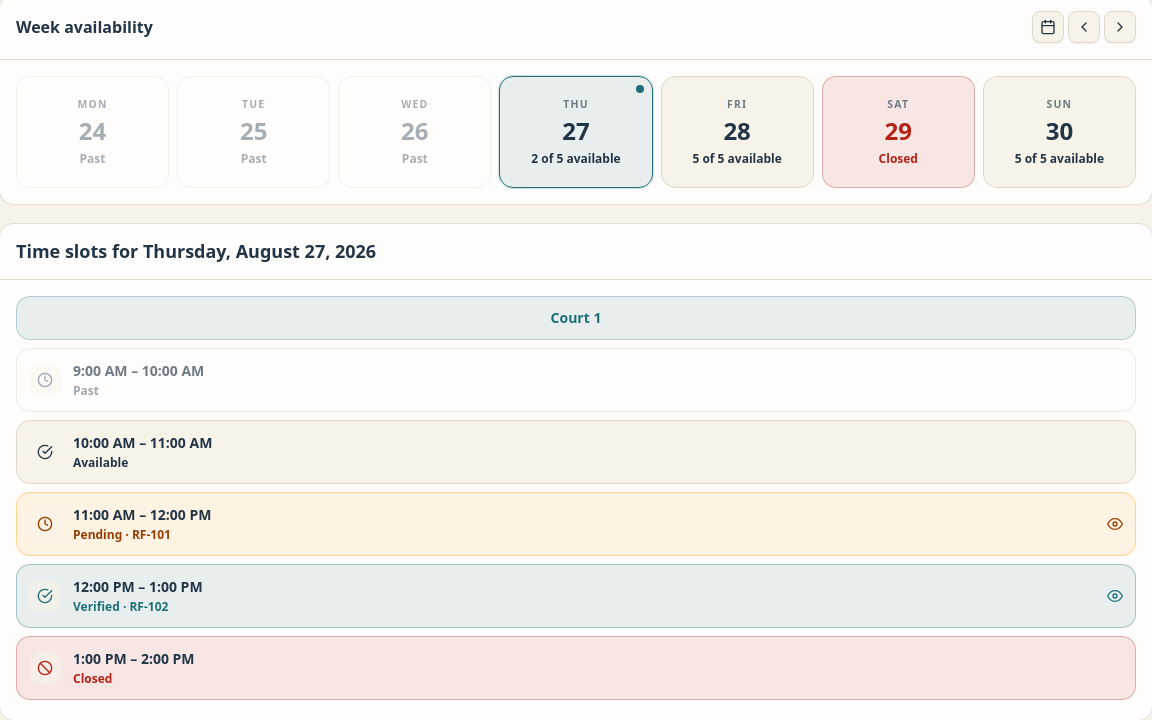
Test case: PortalHomeView › opens the dashboard detail with pending actions for a Manager
This screenshot has width=1152, height=720.
(page scrolled)
Step 1. Click the button with aria-label "View pending reservation RF-101" → click(45, 524), box 16,492 -> 1136,556
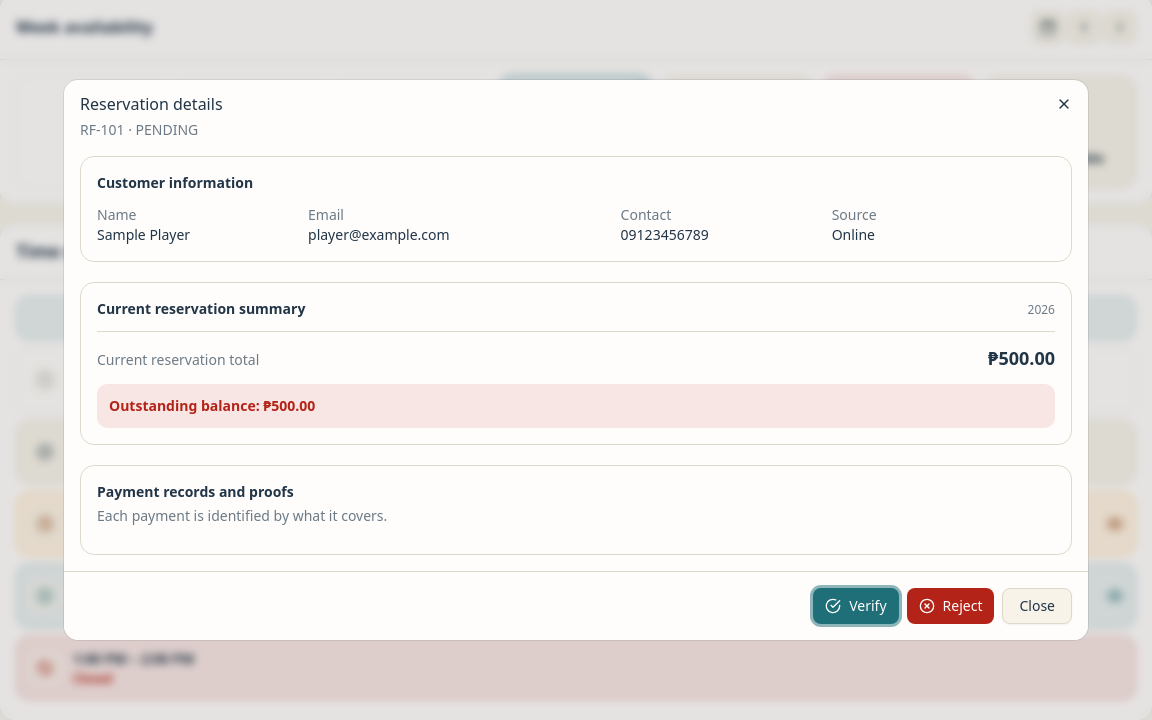
Expected: the heading "Reservation details" is shown, 80,93 -> 222,115
Expected: the text "RF-101 · PENDING" is shown, 80,120 -> 198,139
Expected: the button "Verify" is shown, 813,588 -> 899,624
